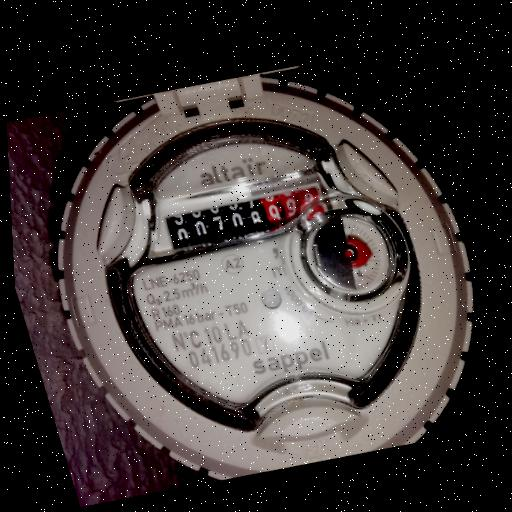0: (222, 199, 254, 243), (186, 205, 217, 248), (168, 211, 197, 252)
7: (205, 202, 237, 247)
8: (242, 196, 271, 239)
9: (259, 193, 288, 233), (276, 189, 305, 226), (295, 184, 324, 214)
border_water_meter_number: (158, 168, 336, 266)
